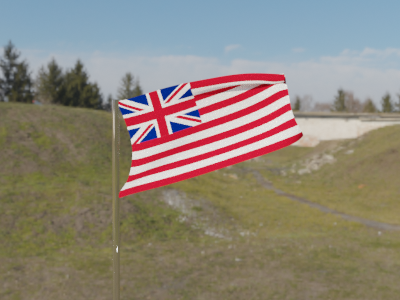Malaysia flag: (120, 72, 303, 200)
